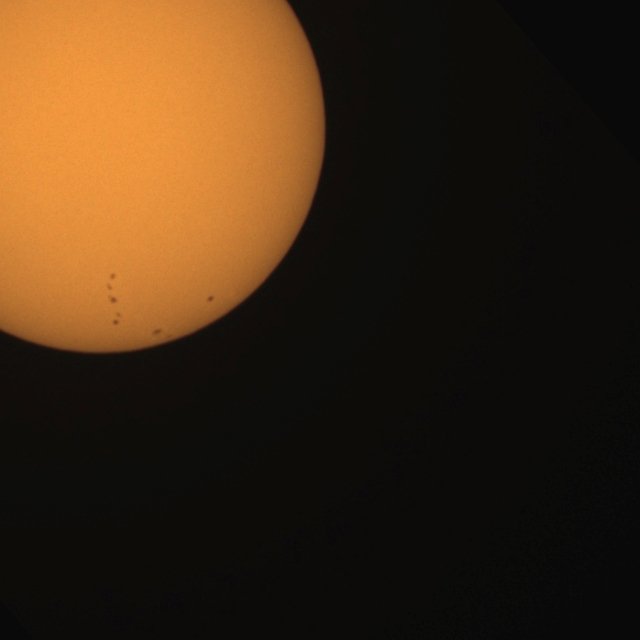sunspot: (104, 271, 119, 304), (150, 326, 170, 340), (111, 311, 123, 326), (151, 326, 163, 336), (206, 294, 216, 304)
